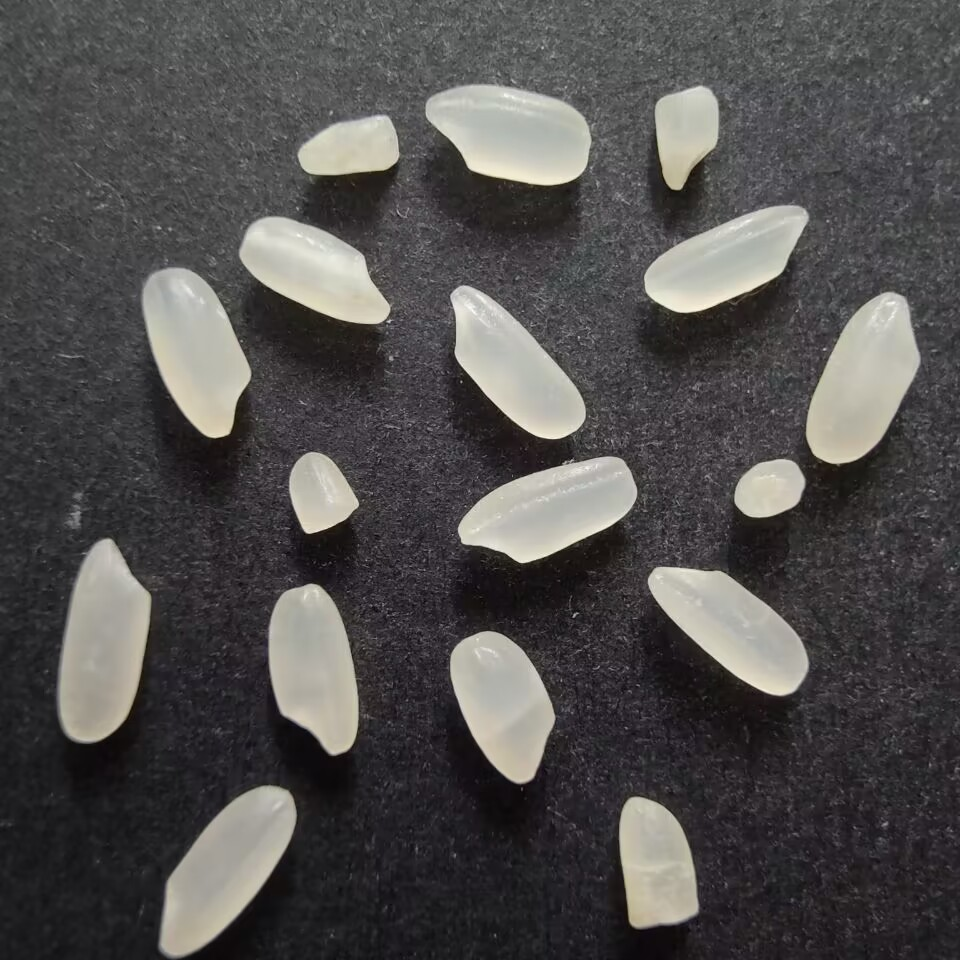broken: (608, 792, 706, 931), (293, 109, 401, 186), (650, 83, 724, 192), (286, 450, 362, 540), (730, 453, 805, 526)
rice: (154, 780, 301, 959), (644, 560, 813, 700), (799, 288, 927, 469), (444, 284, 589, 443), (53, 531, 155, 747), (453, 452, 642, 567), (136, 266, 257, 442), (641, 201, 810, 316), (420, 81, 596, 186), (232, 214, 397, 326), (446, 627, 558, 790), (263, 581, 360, 759)
